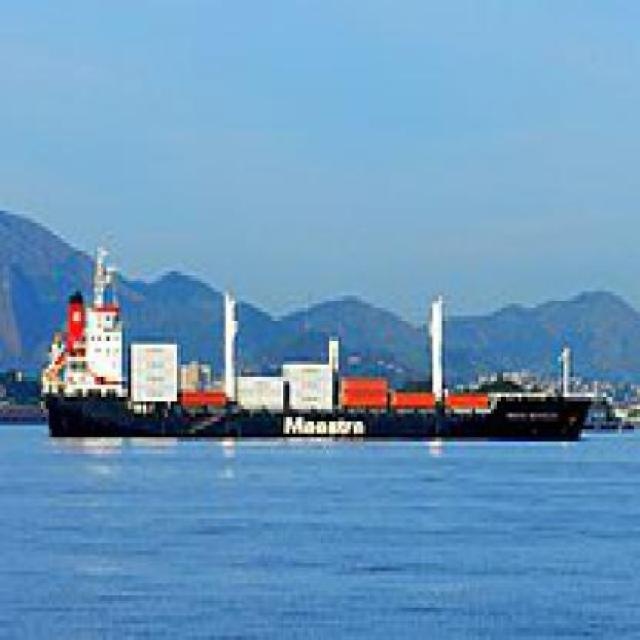container: (37, 240, 599, 451)
